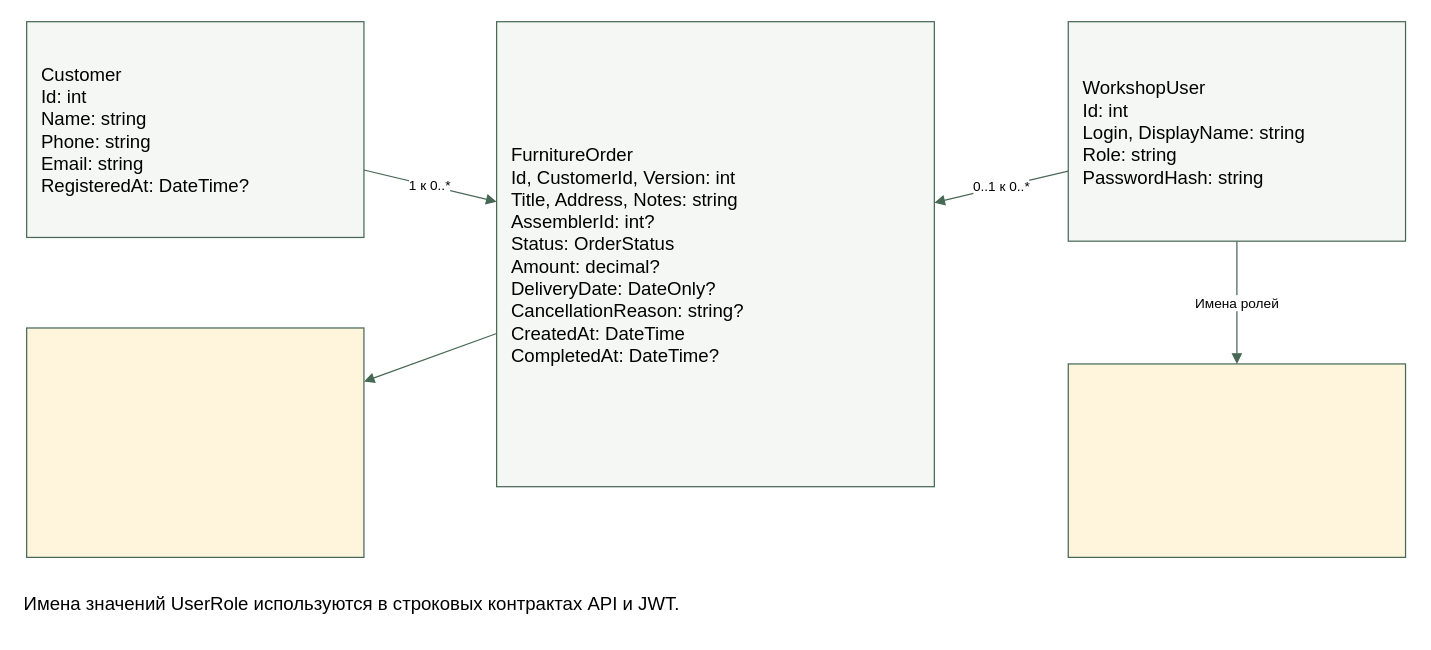
Image size: 1431x650. Some labels were removed from this diagram. The shapes that lost their labels are listed below. From the top down, each one's centre as x and y in pixels, then its label:
At (x=194, y=442): "OrderStatus Measurement, Design Manufacturing, Delivery Installed, Cancelled".
At (x=1236, y=460): "UserRole Admin Manager Assembler".
